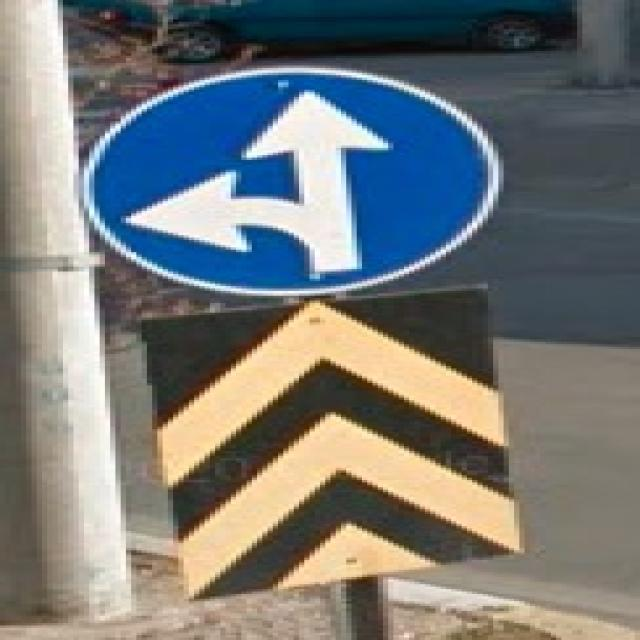Straight or Left: (75, 68, 505, 296)
